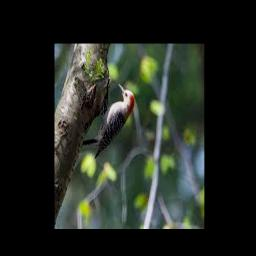Woodpecker: (81, 82, 134, 158)
